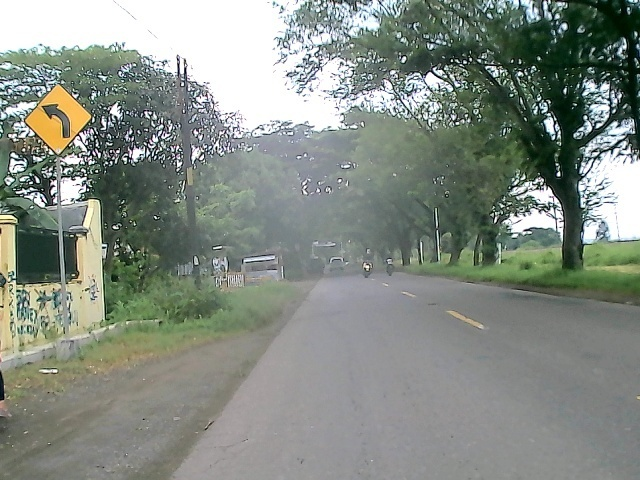Tikungan ke kiri: (24, 84, 94, 163)
